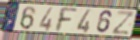4: (38, 6, 54, 32), (77, 8, 92, 34)
6: (19, 5, 37, 30), (96, 10, 113, 35)
F: (55, 6, 79, 34)
Z: (111, 10, 136, 36)
